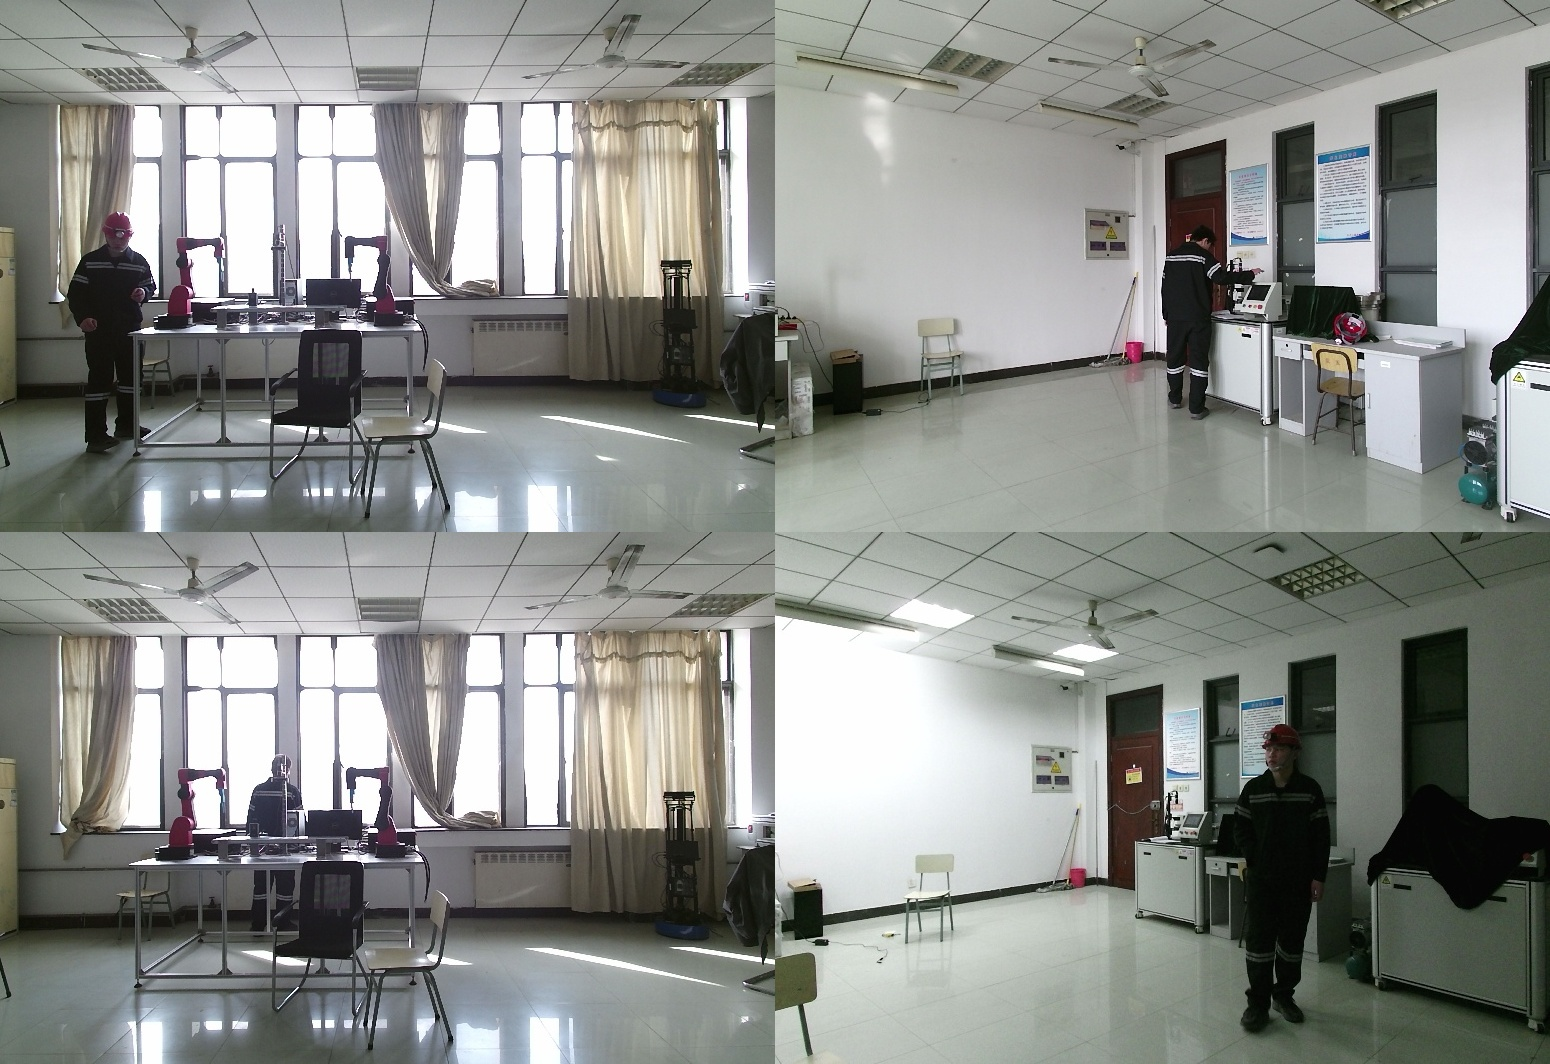person: (1225, 726, 1342, 1019), (61, 212, 159, 452), (1161, 231, 1275, 420), (247, 756, 314, 948)
